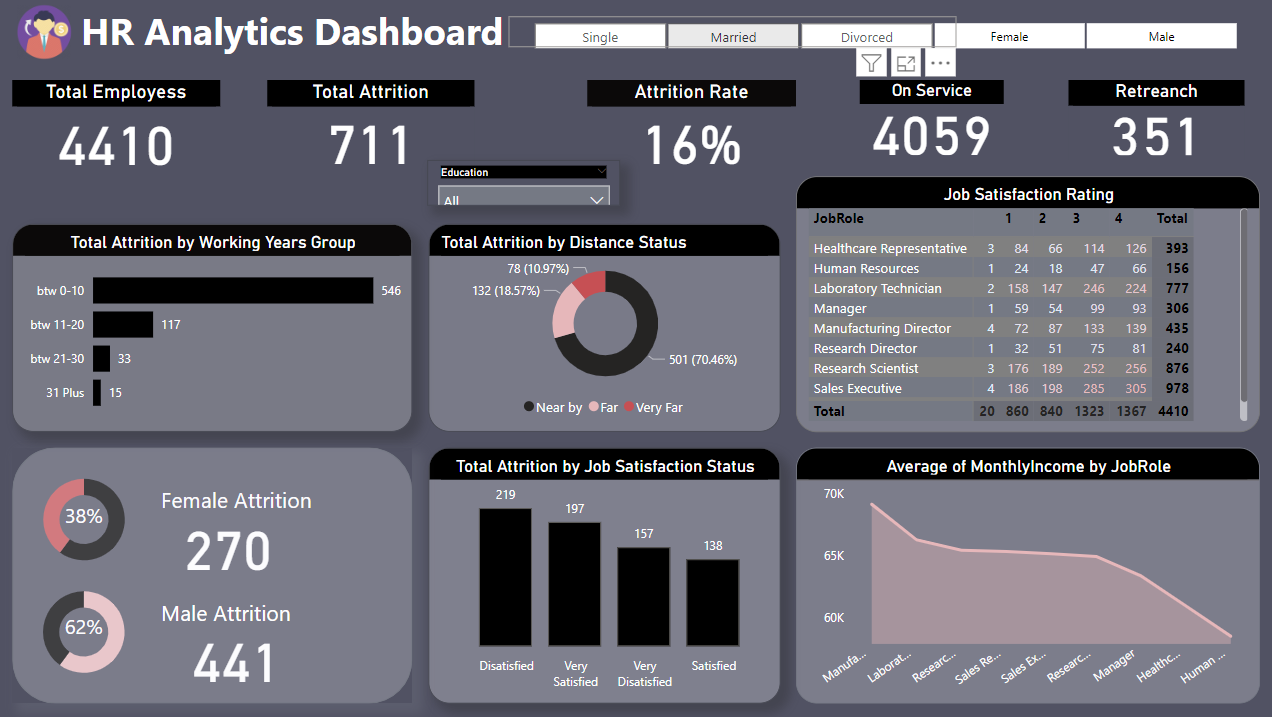

The page's visual inventory and layout, read from the dashboard file:
{"tool":"powerbi","page":{"name":"Page 1","canvas":[1280,720],"ordinal":0},"visuals":[{"type":"card","title":"Total Employess","fields":{"Values":["All Measures.Total Employee"]},"box":[16,80,208,96],"z":0},{"type":"card","title":"Total Attrition","fields":{"Values":["All Measures.Total Attrition"]},"box":[271.4,80,207.1,95.7],"z":1000},{"type":"card","title":"Attrition Rate","fields":{"Values":["All Measures.% Attrition"]},"box":[591.4,80,208.6,95.7],"z":2000},{"type":"card","title":"On Service","fields":{"Values":["All Measures.On Service"]},"box":[864,80,144,80],"z":3000},{"type":"card","title":"Retreanch","fields":{"Values":["All Measures.Will be retreanched"]},"box":[1072,80,176,80],"z":4000},{"type":"donutChart","fields":{"Category":["TotalWorkingYears.Distance Status"],"Y":["All Measures.Total Attrition"]},"box":[432,224,352,208],"z":5000},{"type":"barChart","fields":{"Y":["All Measures.Total Attrition"],"Category":["Data.Working Years Group"]},"box":[16,224,400,208],"z":6000},{"type":"columnChart","fields":{"Y":["All Measures.Total Attrition"],"Category":["Data.Job Satisfaction Status"]},"box":[432,448,352,256],"z":7000},{"type":"pivotTable","title":"Job Satisfaction Rating","fields":{"Rows":["Data.JobRole"],"Columns":["Data.JobSatisfaction"],"Values":["All Measures.Total Employee"]},"box":[800,176,464,256],"z":8000},{"type":"areaChart","fields":{"Category":["Data.JobRole"],"Y":["Avg(Data.MonthlyIncome)"]},"box":[800,448,464,256],"z":9000},{"type":"slicer","fields":{"Values":["Data.Gender"]},"box":[912,16,352,32],"z":10000},{"type":"slicer","fields":{"Values":["Data.MaritalStatus"]},"box":[512,16,448,32],"z":11000},{"type":"donutChart","fields":{"Y":["All Measures.Male","All Measures.Female"]},"box":[0,576,176,112],"z":12000},{"type":"donutChart","fields":{"Y":["All Measures.Male","All Measures.Female"]},"box":[16,464,144,112],"z":13000},{"type":"multiRowCard","fields":{"Values":["All Measures.% Male Attrition"]},"box":[64,608,80,48],"z":14000},{"type":"multiRowCard","fields":{"Values":["All Measures.% Female Attrition"]},"box":[64,496,80,48],"z":15000},{"type":"card","fields":{"Values":["All Measures.Total Attrition"]},"box":[176,624,128,64],"z":16000},{"type":"card","fields":{"Values":["All Measures.Total Attrition"]},"box":[176,512,112,64],"z":17000},{"type":"textbox","box":[160,480,192,48],"z":18000},{"type":"shape","box":[16,448,400,256],"z":19000},{"type":"textbox","box":[80,0,464,64],"z":20000},{"type":"image","box":[16,0,64,64],"z":21000},{"type":"textbox","box":[160,592,192,48],"z":22000},{"type":"slicer","fields":{"Values":["TotalWorkingYears.Education"]},"box":[431.4,160,192.9,45.7],"z":23000}]}

Visuals, with their boxes in screenshot pixels (x1, y1, x2, y2), scaled from the page's 1280x720 canvas onto the 1272x717 screenshot:
"Total Employess" card: region(16, 80, 223, 175)
"Total Attrition" card: region(270, 80, 476, 175)
"Attrition Rate" card: region(588, 80, 795, 175)
"On Service" card: region(859, 80, 1002, 159)
"Retreanch" card: region(1065, 80, 1240, 159)
donutChart - TotalWorkingYears.Distance Status x All Measures.Total Attrition: region(429, 223, 779, 430)
barChart - All Measures.Total Attrition x Data.Working Years Group: region(16, 223, 413, 430)
columnChart - All Measures.Total Attrition x Data.Job Satisfaction Status: region(429, 446, 779, 701)
"Job Satisfaction Rating" pivotTable: region(795, 175, 1256, 430)
areaChart - Data.JobRole x Avg(Data.MonthlyIncome): region(795, 446, 1256, 701)
slicer - Data.Gender: region(906, 16, 1256, 48)
slicer - Data.MaritalStatus: region(509, 16, 954, 48)
donutChart - All Measures.Male x All Measures.Female: region(0, 574, 175, 685)
donutChart - All Measures.Male x All Measures.Female: region(16, 462, 159, 574)
multiRowCard - All Measures.% Male Attrition: region(64, 605, 143, 653)
multiRowCard - All Measures.% Female Attrition: region(64, 494, 143, 542)
card - All Measures.Total Attrition: region(175, 621, 302, 685)
card - All Measures.Total Attrition: region(175, 510, 286, 574)
textbox: region(159, 478, 350, 526)
shape: region(16, 446, 413, 701)
textbox: region(80, 0, 541, 64)
image: region(16, 0, 80, 64)
textbox: region(159, 590, 350, 637)
slicer - TotalWorkingYears.Education: region(429, 159, 620, 205)
